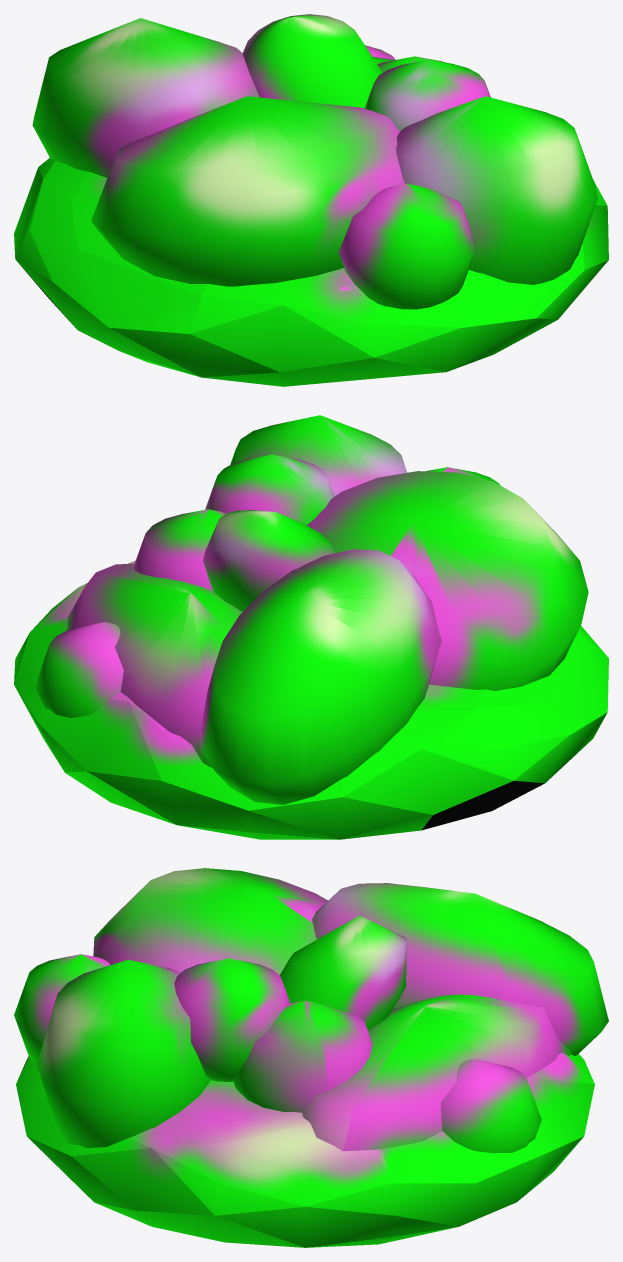
File: poisonPlot.fbx
3 renders of one model, top to bottom at view 1: azimuth 30°, elevation 25°; view 2: azimuth 150°, elevation 25°; view 3: azimuth 270°, elevation 25°, orthographic. The views are drawn at different scales.
Visible parts, largest first — view 1: polySurface3, polySurface8, polySurface10, polySurface9, polySurface12, polySurface15, polySurface13; view 2: polySurface3, polySurface9, polySurface8, polySurface14, polySurface15, polySurface10, polySurface11, polySurface13, polySurface7, polySurface4; view 3: polySurface3, polySurface10, polySurface9, polySurface14, polySurface8, polySurface7, polySurface15, polySurface13, polySurface11, polySurface12.
Boxes of the visible parts, <box> form: polySurface3: <box>14,158,608,386</box>; polySurface8: <box>91,96,404,286</box>; polySurface10: <box>396,96,597,284</box>; polySurface9: <box>32,18,259,177</box>; polySurface12: <box>338,183,475,309</box>; polySurface15: <box>243,14,382,108</box>; polySurface13: <box>365,59,490,131</box>; polySurface3: <box>14,560,608,839</box>; polySurface9: <box>200,549,441,804</box>; polySurface8: <box>307,471,588,690</box>; polySurface14: <box>67,563,242,767</box>; polySurface15: <box>203,510,334,611</box>; polySurface10: <box>230,415,406,495</box>; polySurface11: <box>36,622,123,717</box>; polySurface13: <box>205,454,334,524</box>; polySurface7: <box>134,509,225,590</box>; polySurface4: <box>421,780,544,830</box>; polySurface3: <box>16,1052,594,1247</box>; polySurface10: <box>37,960,210,1147</box>; polySurface9: <box>312,883,608,1056</box>; polySurface14: <box>302,994,570,1151</box>; polySurface8: <box>93,868,327,975</box>; polySurface7: <box>232,1000,372,1112</box>; polySurface15: <box>280,915,407,1030</box>; polySurface13: <box>174,958,290,1081</box>; polySurface11: <box>441,1059,541,1153</box>; polySurface12: <box>14,954,110,1063</box>.
Size of the model in its own units: 5.74 by 2.99 by 5.9.
12 materials, 10 textured.
